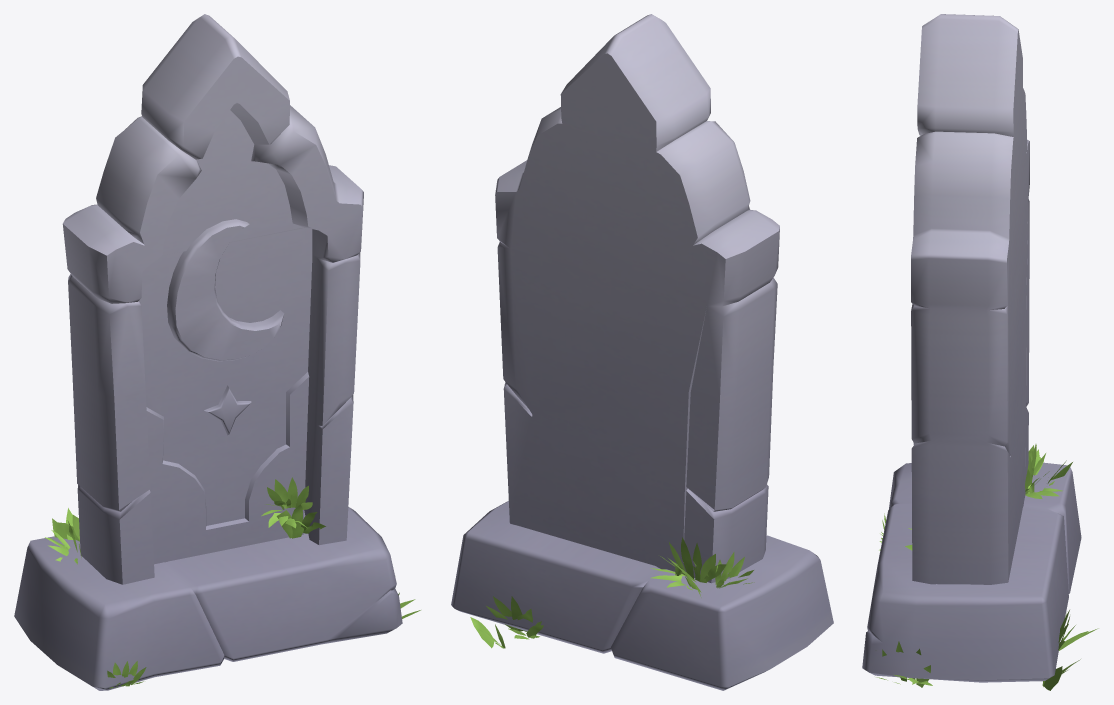
Rendered from tombstone_01.glb.
The picture shows the model from 3 angles, left to right: view 1: azimuth 30°, elevation 25°; view 2: azimuth 150°, elevation 25°; view 3: azimuth 270°, elevation 25°; orthographic projection.
Parts seen in each view (by area): view 1: WBA_Gravestone_Set_01; view 2: WBA_Gravestone_Set_01; view 3: WBA_Gravestone_Set_01.
Part boxes in pixels (bbox=[...]): WBA_Gravestone_Set_01: bbox=[14, 14, 420, 690]; WBA_Gravestone_Set_01: bbox=[451, 14, 833, 690]; WBA_Gravestone_Set_01: bbox=[862, 14, 1098, 690].
Size of the model in its own units: 0.4688 by 0.8606 by 0.2962.
1 material, 1 textured.
